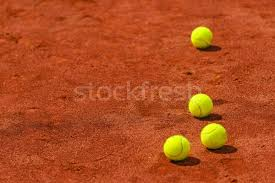tennis_ball: (163, 134, 191, 162), (199, 123, 227, 150), (188, 93, 213, 118), (190, 26, 213, 50)
